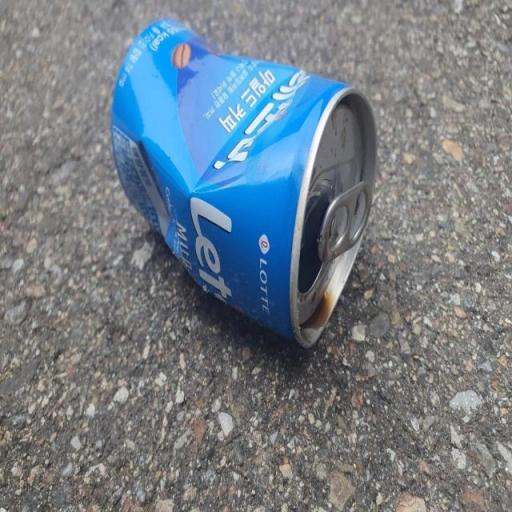metal: (73, 0, 403, 382)
